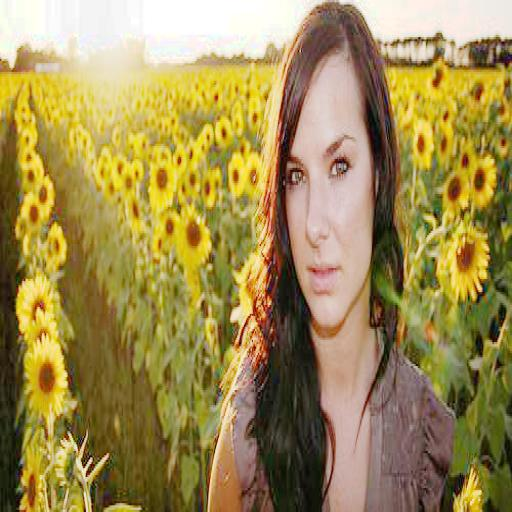sunflower: (28, 340, 68, 412), (446, 227, 488, 294), (19, 276, 50, 336), (148, 155, 178, 211), (178, 209, 207, 266), (469, 152, 496, 205), (441, 170, 471, 216), (425, 57, 452, 98), (414, 118, 433, 166), (20, 192, 43, 231), (123, 194, 146, 231), (45, 222, 65, 264), (228, 150, 245, 198), (246, 150, 262, 198), (158, 209, 178, 246), (19, 161, 41, 192), (215, 118, 234, 148), (201, 168, 214, 209), (112, 155, 127, 187)
